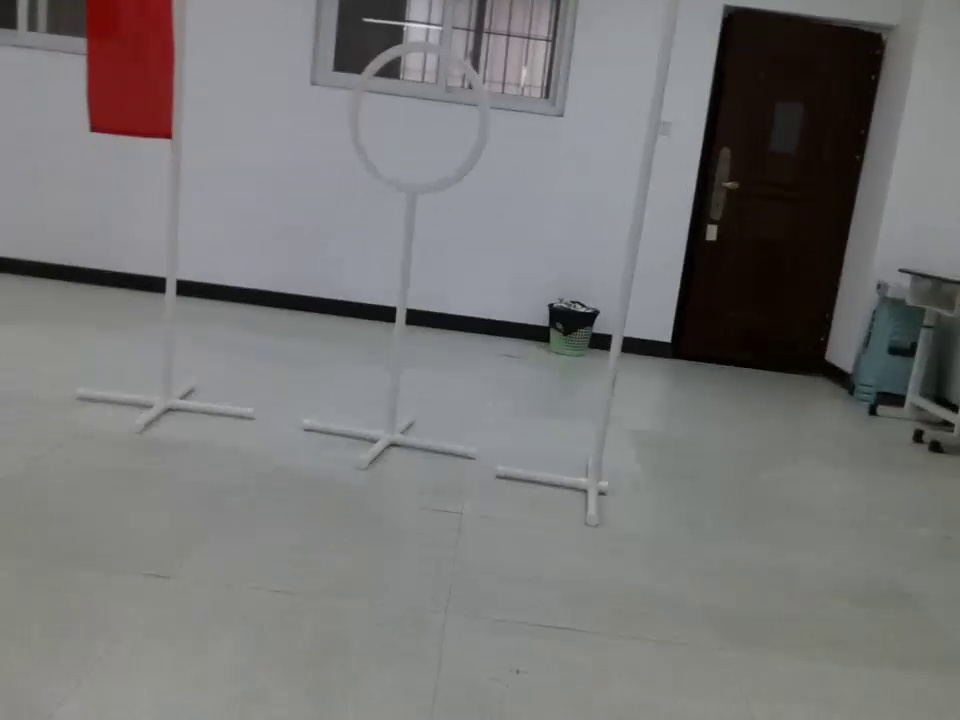gan: (595, 1, 702, 481)
qi: (77, 1, 185, 144)
quan: (344, 37, 492, 211)
